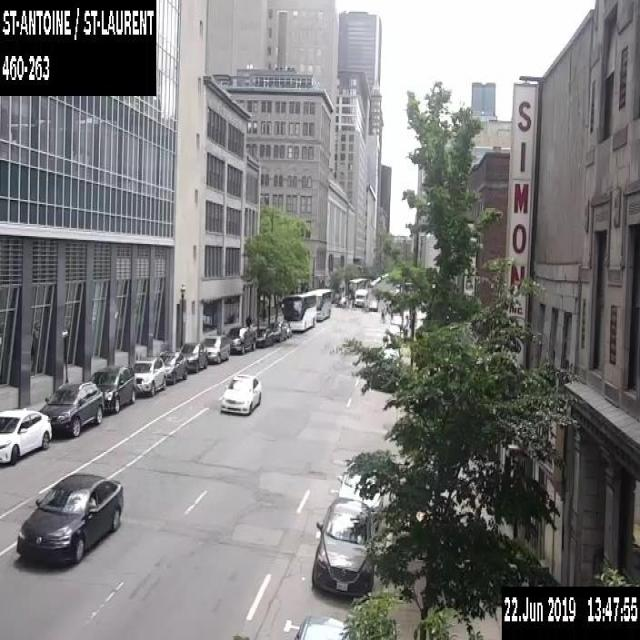bus: (280, 292, 316, 331), (306, 287, 331, 320)
pedestrian: (246, 314, 252, 326)
vehicle: (15, 472, 126, 564), (311, 496, 377, 598), (40, 379, 103, 436), (0, 406, 52, 463), (337, 456, 385, 509), (88, 365, 134, 412), (215, 372, 263, 415), (293, 613, 350, 639), (132, 356, 166, 396), (160, 349, 187, 384), (179, 341, 207, 371), (225, 326, 256, 352), (202, 334, 229, 363), (347, 276, 369, 299), (265, 320, 286, 340), (254, 327, 273, 346), (383, 340, 400, 358), (387, 324, 402, 341), (354, 288, 368, 306), (280, 320, 291, 336), (390, 315, 402, 329), (368, 299, 377, 310), (337, 296, 346, 306)
